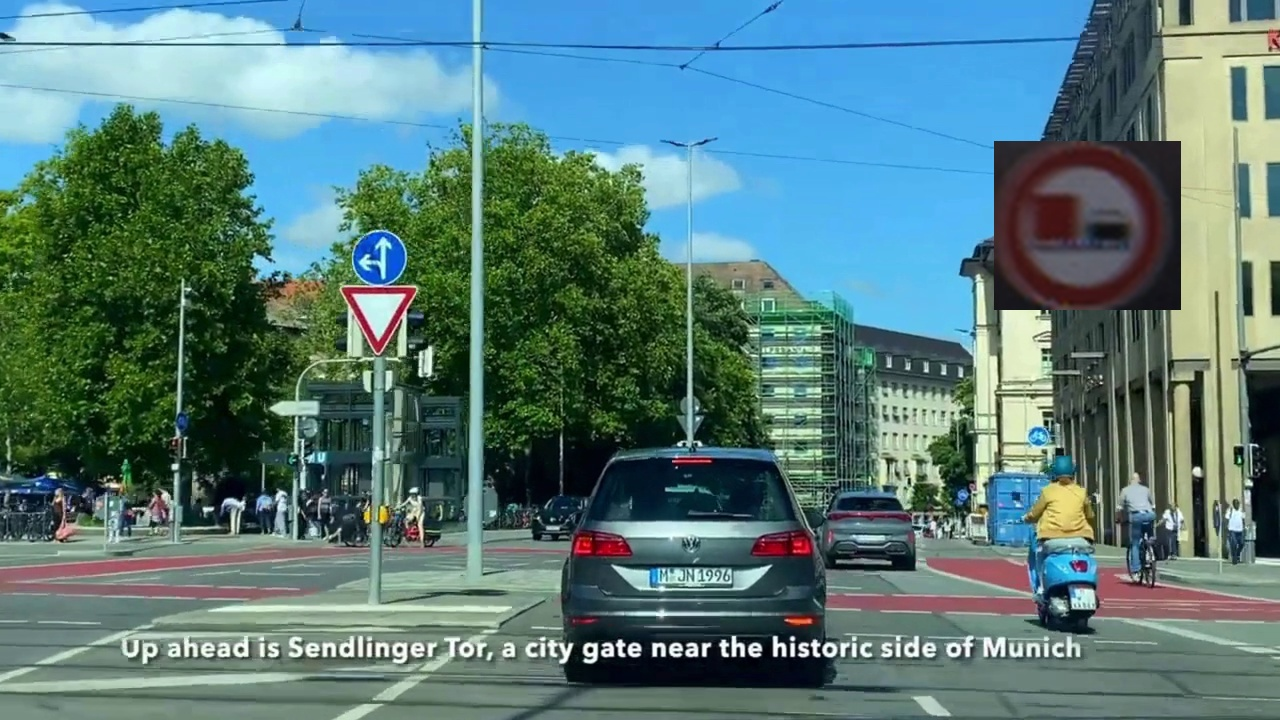No pass >3.5t: (994, 141, 1181, 310)
